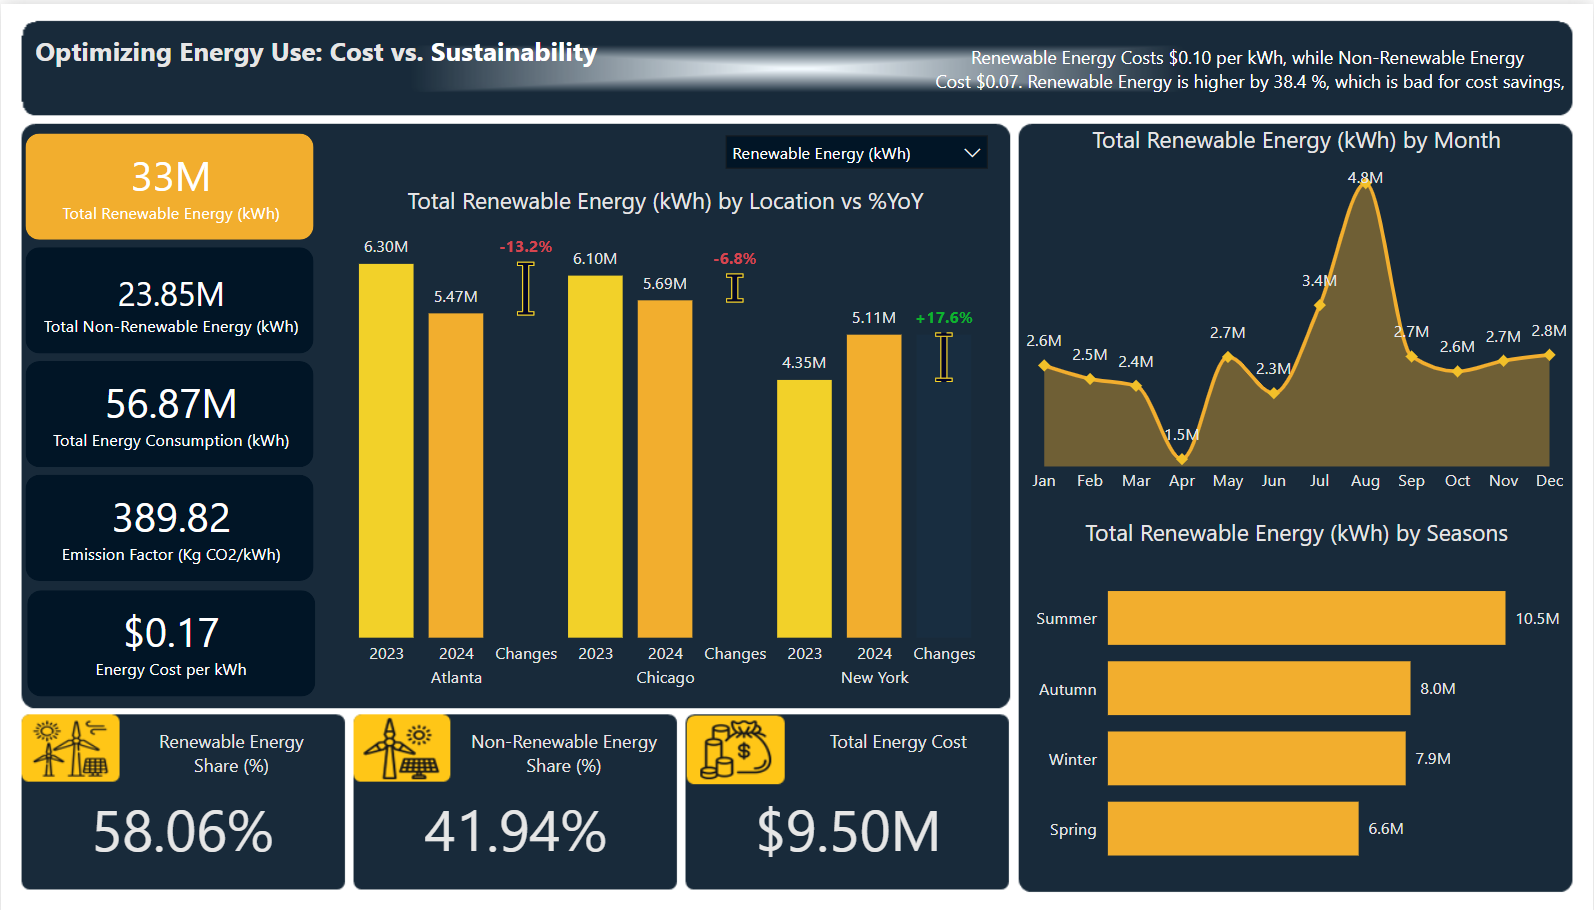

The page's visual inventory and layout, read from the dashboard file:
{"tool":"powerbi","page":{"name":"Overview","canvas":[1300,750],"ordinal":0},"visuals":[{"type":"shape","box":[22,478.2,235.2,86.7],"z":0},{"type":"shape","box":[20.7,384.9,235.2,86.7],"z":1000},{"type":"shape","box":[19.4,291.6,235.2,86.7],"z":2000},{"type":"shape","box":[20.7,198.4,235.2,86.7],"z":3000},{"type":"shape","box":[20.7,105.1,235.2,86.7],"z":4000},{"type":"cardVisual","fields":{"Data":["DAX Table.Renewable Energy (kWh)","DAX Table.Total Non-Renewable Energy (kWh)","DAX Table.total Energy Consumption (kWh)","DAX Table.Emission Factor (Kg CO2/kWh)","DAX Table.Energy Cost per kWh"]},"box":[21.2,100,235,468.8],"z":5000},{"type":"clusteredColumnChart","fields":{"Category":["Data.Location","YearTable.Year"],"Y":["YearTable.CYoY Change"]},"box":[263.8,147.5,556.2,425],"z":6000},{"type":"slicer","fields":{"Values":["Switch Measures.Switch Measures"]},"box":[582,97.2,233.8,43.4],"z":7000},{"type":"card","fields":{"Values":["DAX Table.Non-Renewable Energy Share (%)"]},"box":[292.5,622.5,255,98.8],"z":8000},{"type":"card","title":"Renewable Energy Share (%)","fields":{"Values":["DAX Table.Renewable Energy Share (%)"]},"box":[20,622.5,256.2,98.8],"z":9000},{"type":"card","fields":{"Values":["Sum(Data.Energy Cost (USD))"]},"box":[562.5,622.5,257.5,98.8],"z":10000},{"type":"lineChart","fields":{"Category":["Calendar.Month"],"Y":["Switch Measures.Group Measures"]},"box":[831.2,97.5,452.5,311.2],"z":11000},{"type":"clusteredBarChart","fields":{"Category":["Calendar.Seasons"],"Y":["Switch Measures.Group Measures"]},"box":[831.2,418.8,452.5,306.2],"z":12000},{"type":"card","fields":{"Values":["DAX Table.Energy Cost Summary"]},"box":[755,18.8,527.5,68.8],"z":13000},{"type":"textbox","box":[100,582.5,176.2,55],"z":14000},{"type":"textbox","box":[371.2,582.5,176.2,55],"z":15000},{"type":"textbox","box":[643.8,582.5,176.2,55],"z":16000},{"type":"textbox","box":[22.9,18.6,484.3,45.7],"z":17000},{"type":"textbox","box":[548.6,54.3,104.3,34.3],"z":17001},{"type":"actionButton","box":[525.7,48.6,147.1,40],"z":17002}]}

Visuals, with their boxes in screenshot pixels (x1, y1, x2, y2), scaled from the page's 1300x750 canvas onto the 1594x910 screenshot:
shape: select_region(27, 580, 315, 685)
shape: select_region(25, 467, 314, 572)
shape: select_region(24, 354, 312, 459)
shape: select_region(25, 241, 314, 346)
shape: select_region(25, 128, 314, 233)
cardVisual - DAX Table.Renewable Energy (kWh) x DAX Table.Total Non-Renewable Energy (kWh): select_region(26, 121, 314, 690)
clusteredColumnChart - Data.Location x YearTable.Year: select_region(323, 179, 1005, 695)
slicer - Switch Measures.Switch Measures: select_region(714, 118, 1000, 171)
card - DAX Table.Non-Renewable Energy Share (%): select_region(359, 755, 671, 875)
"Renewable Energy Share (%)" card: select_region(25, 755, 339, 875)
card - Sum(Data.Energy Cost (USD)): select_region(690, 755, 1005, 875)
lineChart - Calendar.Month x Switch Measures.Group Measures: select_region(1019, 118, 1574, 496)
clusteredBarChart - Calendar.Seasons x Switch Measures.Group Measures: select_region(1019, 508, 1574, 880)
card - DAX Table.Energy Cost Summary: select_region(926, 23, 1573, 106)
textbox: select_region(123, 707, 339, 774)
textbox: select_region(455, 707, 671, 774)
textbox: select_region(789, 707, 1005, 774)
textbox: select_region(28, 23, 622, 78)
textbox: select_region(673, 66, 801, 108)
actionButton: select_region(645, 59, 825, 108)
